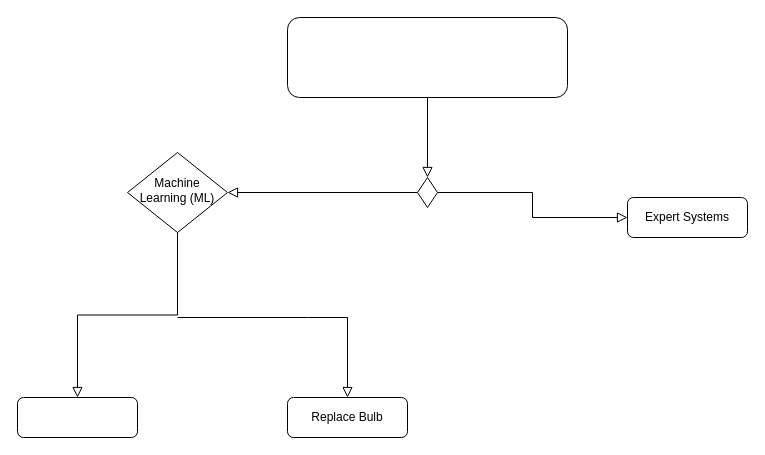
This 765x455 diagram has some shape labels left out. The shapes that lost their labels are listed below. From the top down, each one's centre as x and y in pixels, then its label:
pixel 427 57: Artificial Intelligence (AI) AI Systems = Machine Learning + Expert Systems
pixel 77 417: Repair Lamp
